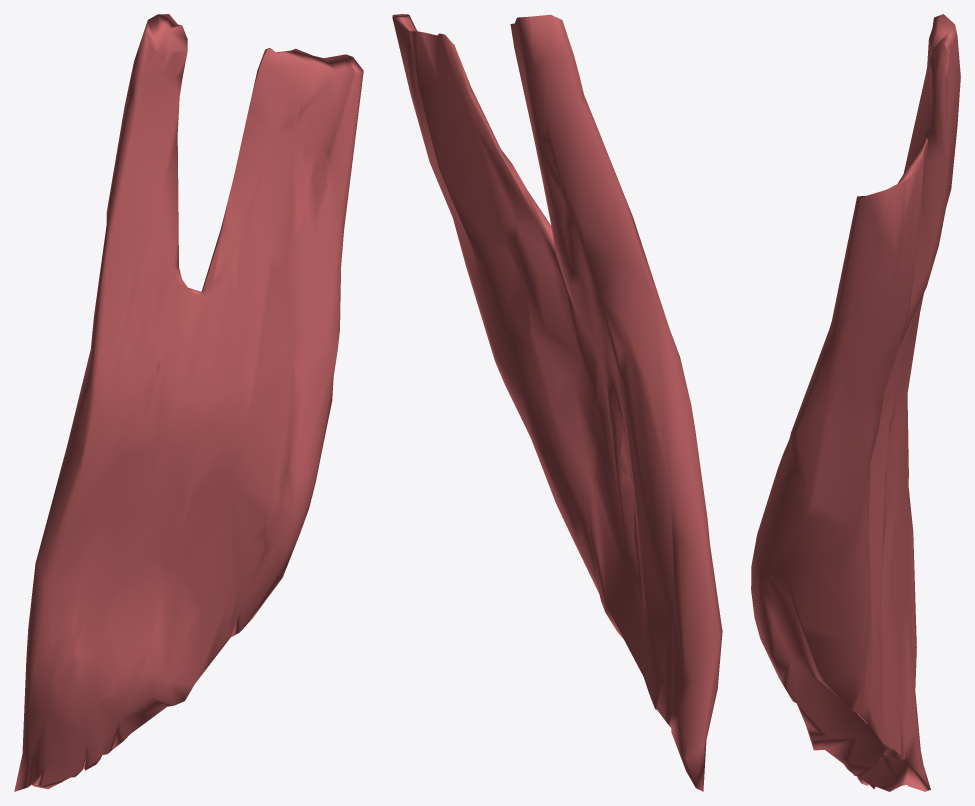
3 renders of one model, left to right at view 1: azimuth 30°, elevation 25°; view 2: azimuth 150°, elevation 25°; view 3: azimuth 270°, elevation 25°, orthographic. The views are drawn at different scales.
Parts seen in each view (by area): view 1: 右侧足底方肌; view 2: 右侧足底方肌; view 3: 右侧足底方肌.
Part boxes in pixels (box(x1,y1,x2,y2)): 右侧足底方肌: box(14, 14, 363, 791); 右侧足底方肌: box(392, 14, 722, 791); 右侧足底方肌: box(751, 14, 960, 791).
Bounding box in the file's own units: 0.0525 × 0.1132 × 0.025.
